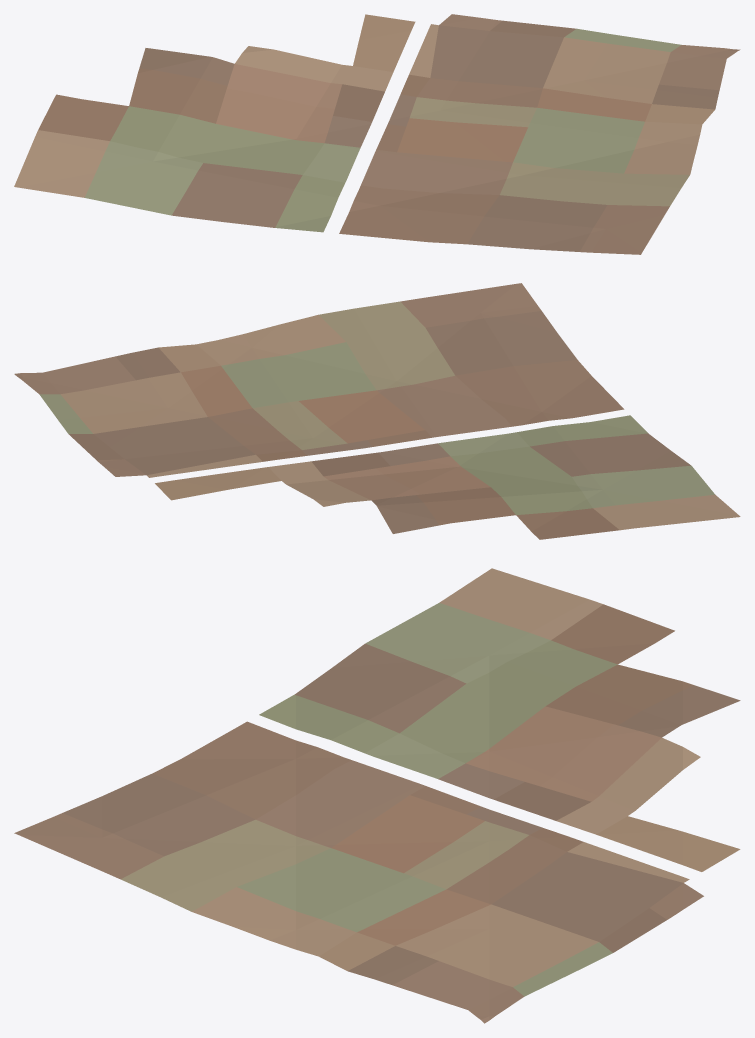
The model's file is farm_-4_0_soil.glb.
3 renders of one model, top to bottom at view 1: azimuth 30°, elevation 25°; view 2: azimuth 150°, elevation 25°; view 3: azimuth 270°, elevation 25°, orthographic. The views are drawn at different scales.
Visible parts, largest first — view 1: geometry_0; view 2: geometry_0; view 3: geometry_0.
Boxes of the visible parts, x1=… form: geometry_0: x1=14, y1=14, x2=740, y2=254; geometry_0: x1=14, y1=283, x2=740, y2=539; geometry_0: x1=14, y1=568, x2=740, y2=1023.
Bounding box in the file's own units: 403 × 22.59 × 301.
